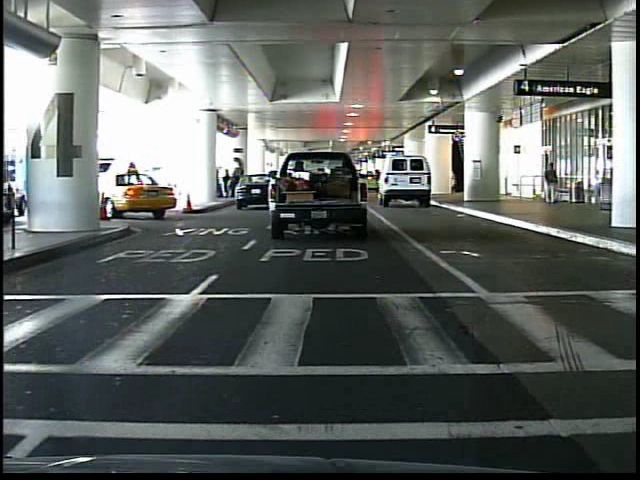person: (540, 157, 560, 209)
